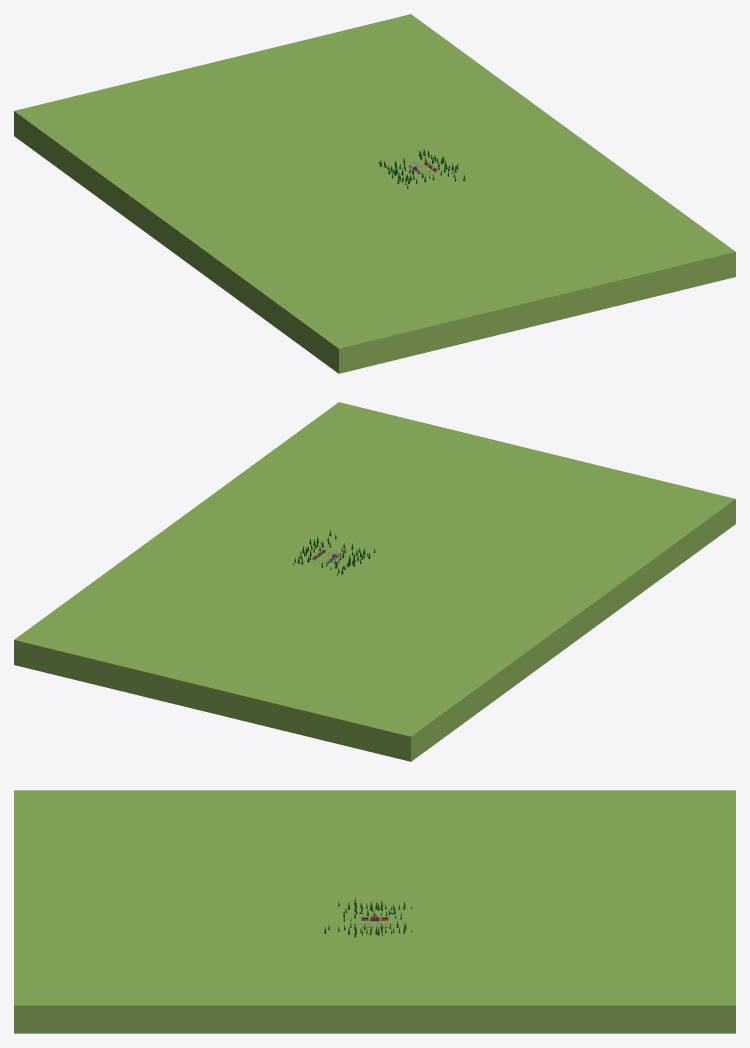
File: JoustArena.glb
3 views of the same model, one above another, from view 1: azimuth 30°, elevation 25°; view 2: azimuth 150°, elevation 25°; view 3: azimuth 270°, elevation 25° (orthographic). The views are drawn at different scales.
Visible parts, largest first — view 1: Cube; view 2: Cube; view 3: Cube.
Boxes of the visible parts, box(x1,y1,x2,y2) form: Cube: box(14, 14, 735, 373); Cube: box(14, 402, 735, 761); Cube: box(14, 790, 735, 1033).
Bounding box in the file's own units: 665 × 53.13 × 943.
Materials: 534 (1 with a texture image).
